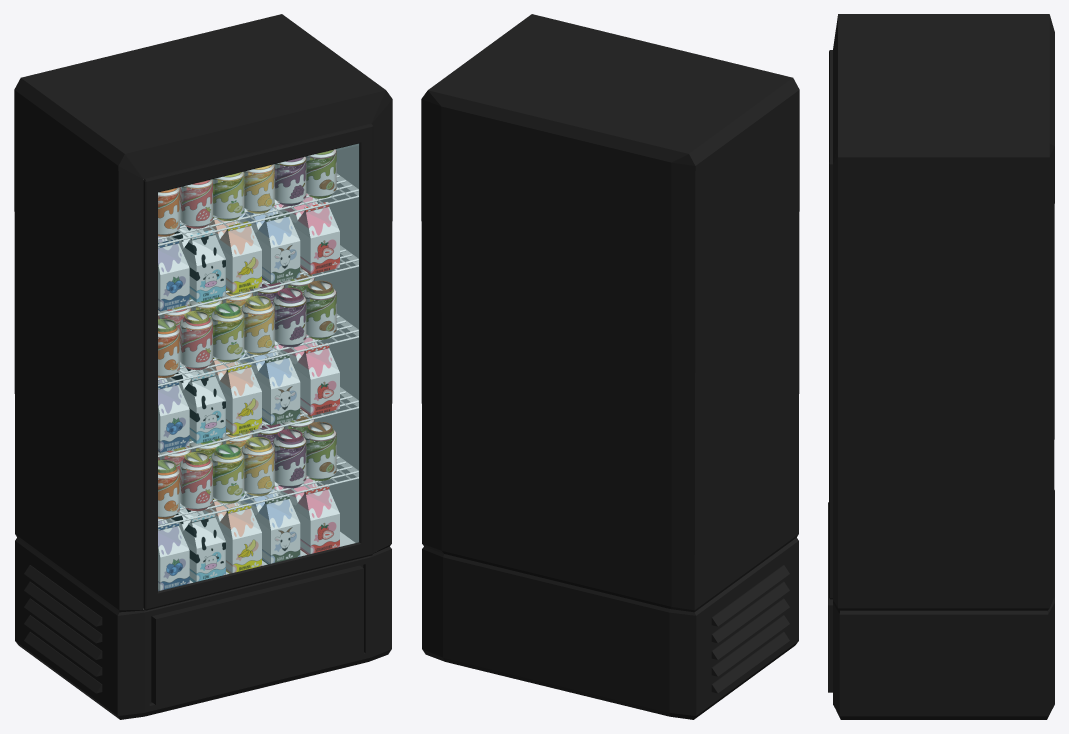
File: Fridge.fbx
The picture shows the model from 3 angles, left to right: view 1: azimuth 30°, elevation 25°; view 2: azimuth 150°, elevation 25°; view 3: azimuth 270°, elevation 25°; orthographic projection.
Visible parts, largest first — view 1: fridge, door, milks.001, milks, milks.002, Sodals.001, Sodals.002, Sodals, Shelve; view 2: fridge; view 3: fridge, door.
Boxes of the visible parts, x1,y1,x2,y2 form: fridge: [14, 14, 392, 719]; door: [143, 123, 373, 610]; milks.001: [158, 335, 339, 452]; milks: [158, 193, 339, 311]; milks.002: [158, 476, 339, 591]; Sodals.001: [158, 268, 336, 377]; Sodals.002: [158, 410, 336, 519]; Sodals: [158, 149, 336, 236]; Shelve: [158, 173, 358, 527]; fridge: [421, 14, 799, 719]; fridge: [828, 14, 1054, 719]; door: [829, 50, 832, 599].
Size of the model in its own units: 296 by 571 by 204.
5 materials, 2 textured.
